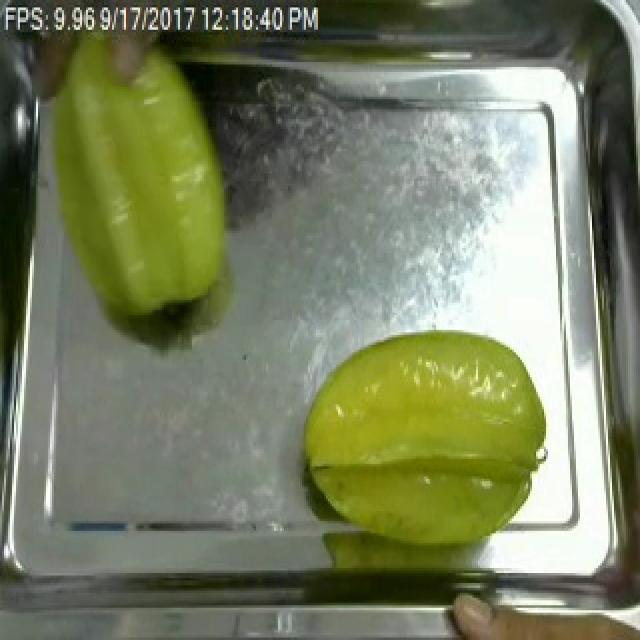fruit: (34, 20, 244, 335), (290, 323, 554, 563)
